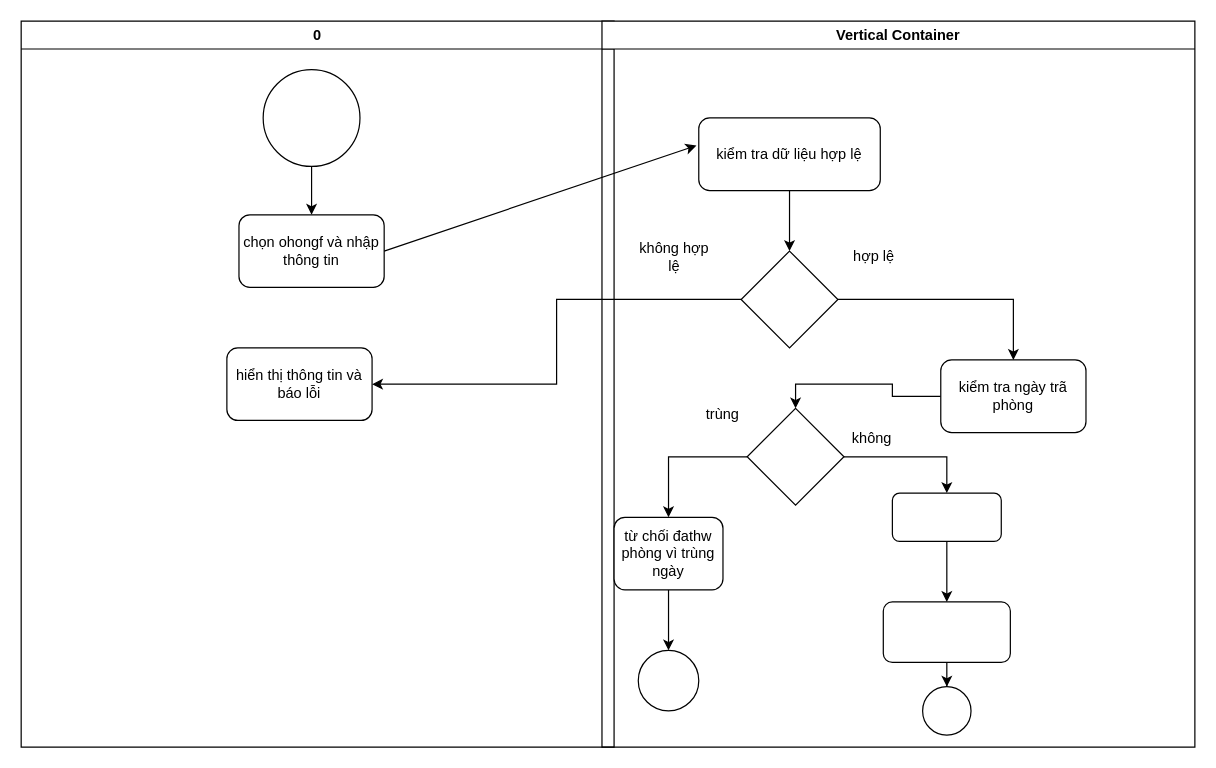
Image size: 1216x768. Some labels were removed from this diagram. Each missing label, with the centre of its shape:
"ddữ liệu" goes at pixel 789 299.
"thông báo đặt phòng thành công" goes at pixel 946 631.
"ttrùng ngày" goes at pixel 795 456.
"tạo phiếu đặt phòng" goes at pixel 946 516.
